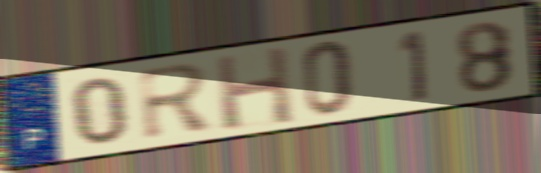0: (300, 38, 360, 119), (67, 75, 131, 147)
1: (396, 27, 431, 104)
8: (453, 19, 516, 96)
H: (212, 43, 297, 133)
R: (136, 60, 219, 143)
